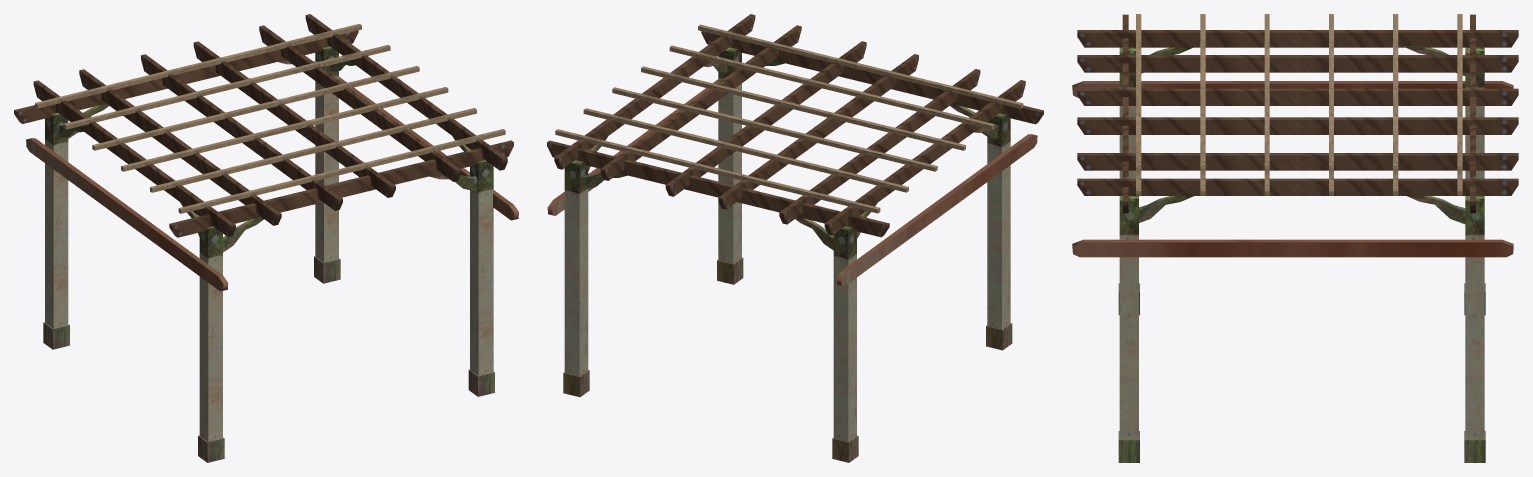
Rendered from pergola.glb.
3 views of the same model, side by side, from view 1: azimuth 30°, elevation 25°; view 2: azimuth 150°, elevation 25°; view 3: azimuth 270°, elevation 25° (orthographic). The views are drawn at different scales.
Parts seen in each view (by area): view 1: SM_Pergola; view 2: SM_Pergola; view 3: SM_Pergola.
Part boxes in pixels (x1,y1,x2,y2): SM_Pergola: (14,14,518,462); SM_Pergola: (547,14,1043,462); SM_Pergola: (1072,14,1518,462).
Size of the model in its own units: 5.03 by 3.54 by 5.09.
1 material, 1 textured.
